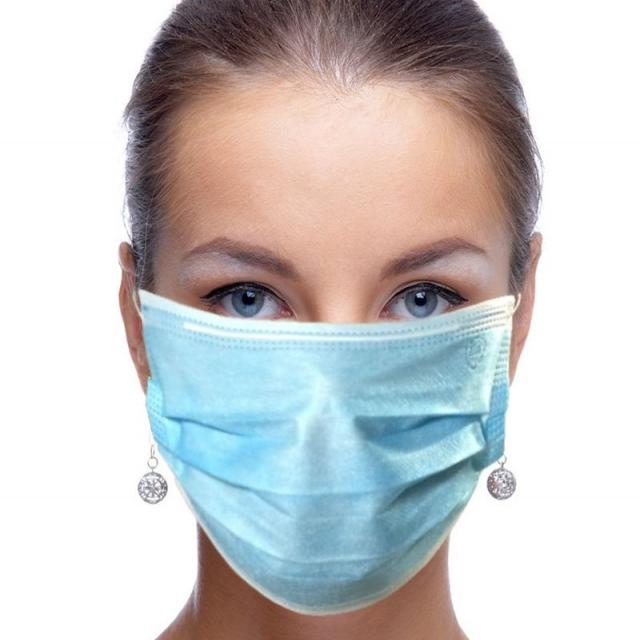mask: (146, 88, 515, 598)
